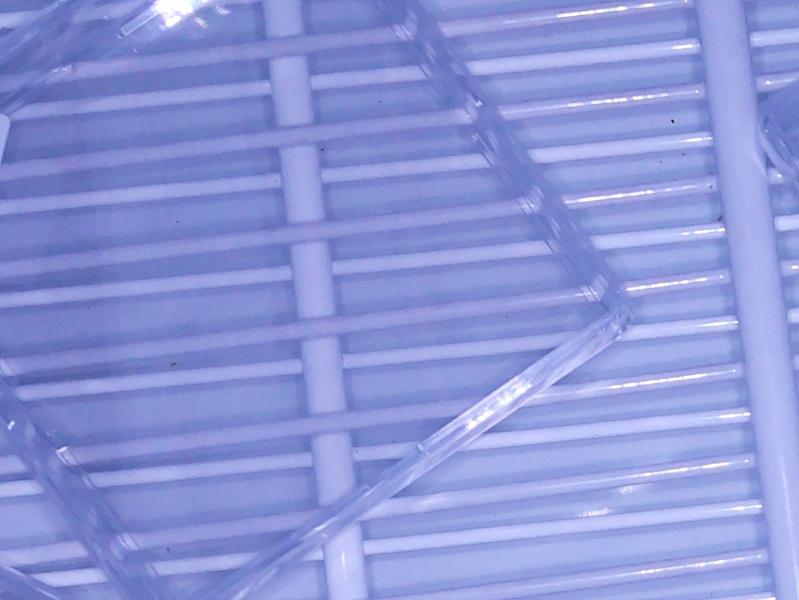plate: (1, 1, 635, 596)
